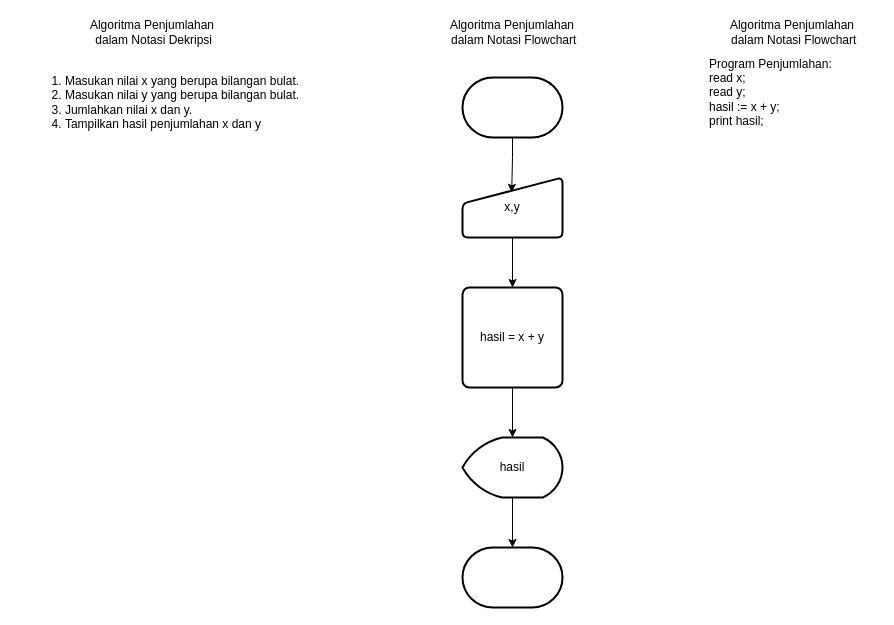
Image size: 894x625. Some labels were removed from this diagram. The shapes that lost their labels are listed below. From the top down, each one's centre as x and y in pixels, then its label:
At pixel 512 107: "Mulai".
At pixel 512 577: "Selesai".
